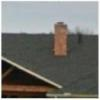chimneys: (54, 20, 68, 55)
